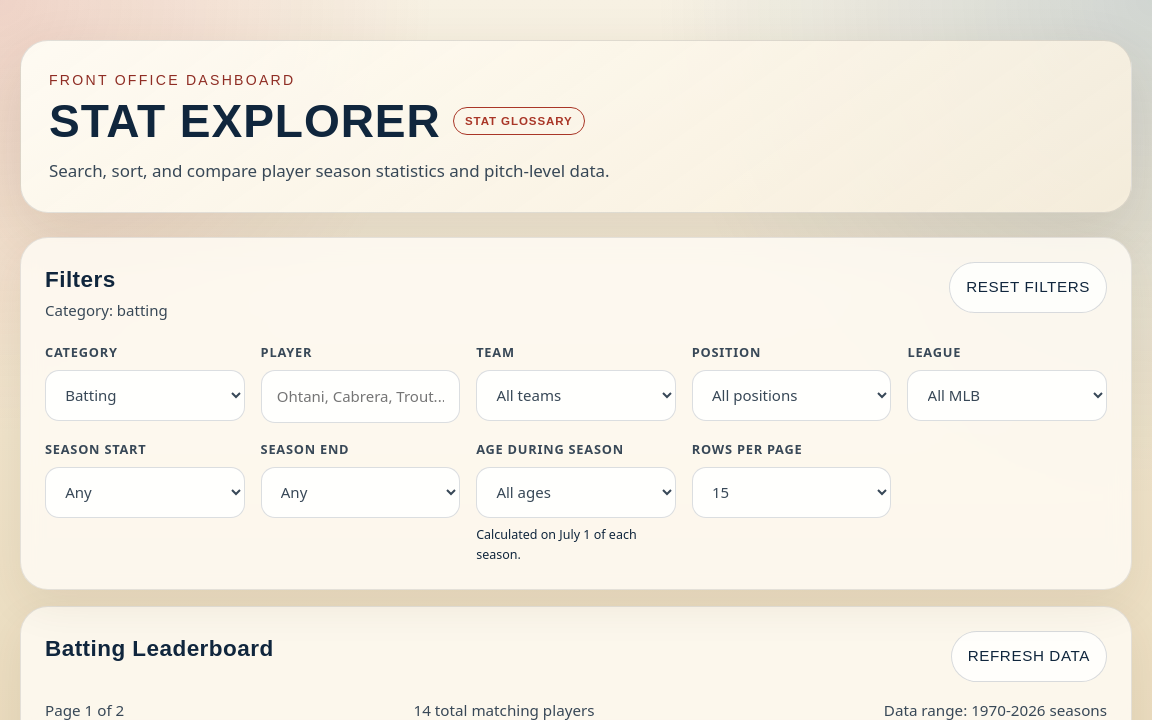
Scenario: StatExplorer › filters by position and persists the position in the URL
Select "SS · Shortstop" in the dropdown with test id "position-filter" at (792, 395), box [692,370,891,421]
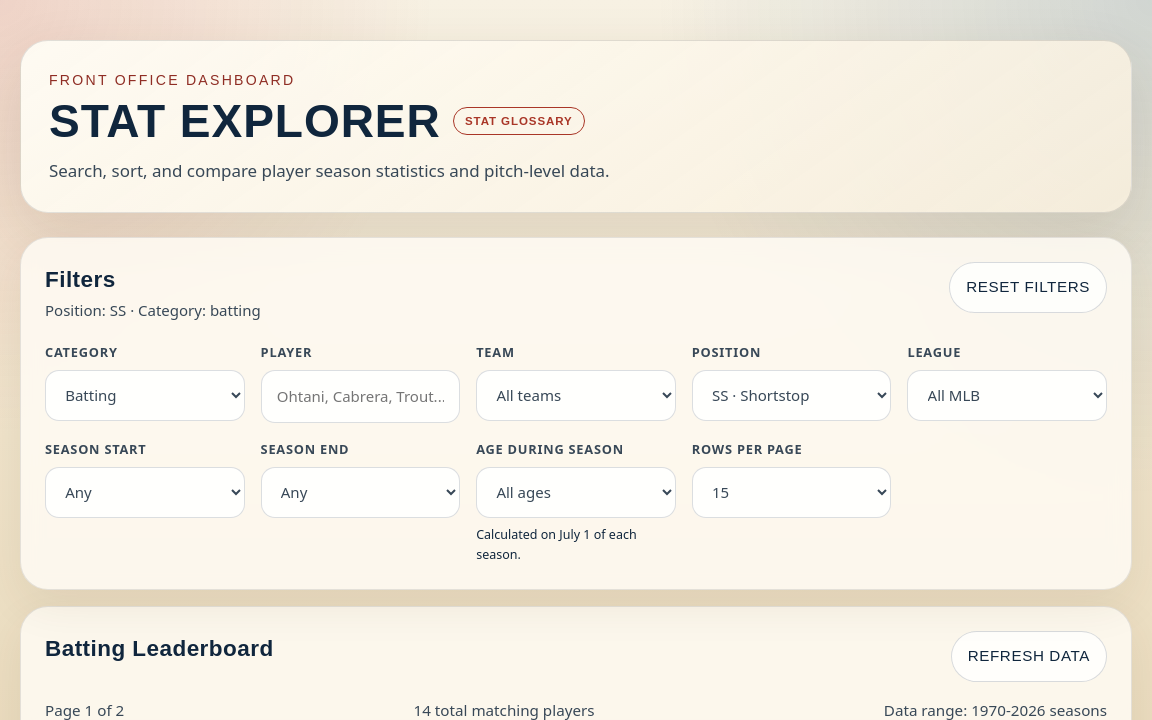
Expected: the text "Position: SS" is shown, [45,300,261,320]
